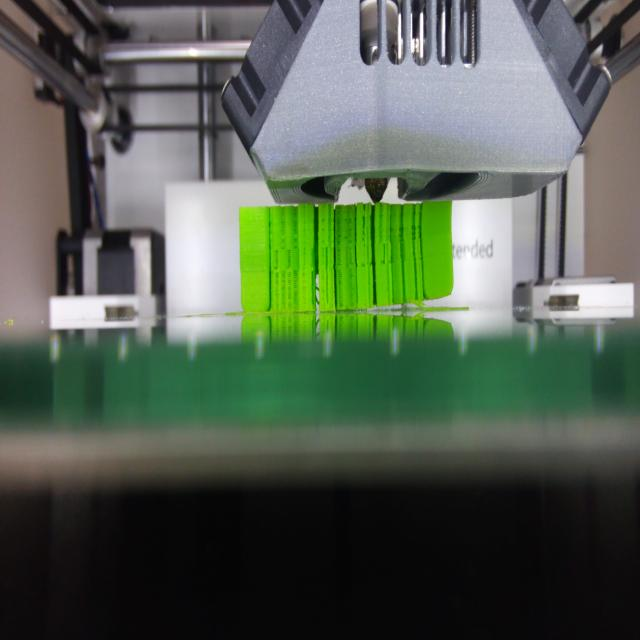Warping: (330, 278, 459, 314)
